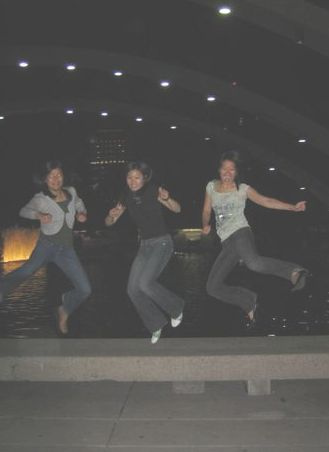person: (201, 152, 311, 332), (1, 160, 95, 336), (105, 161, 189, 346)
